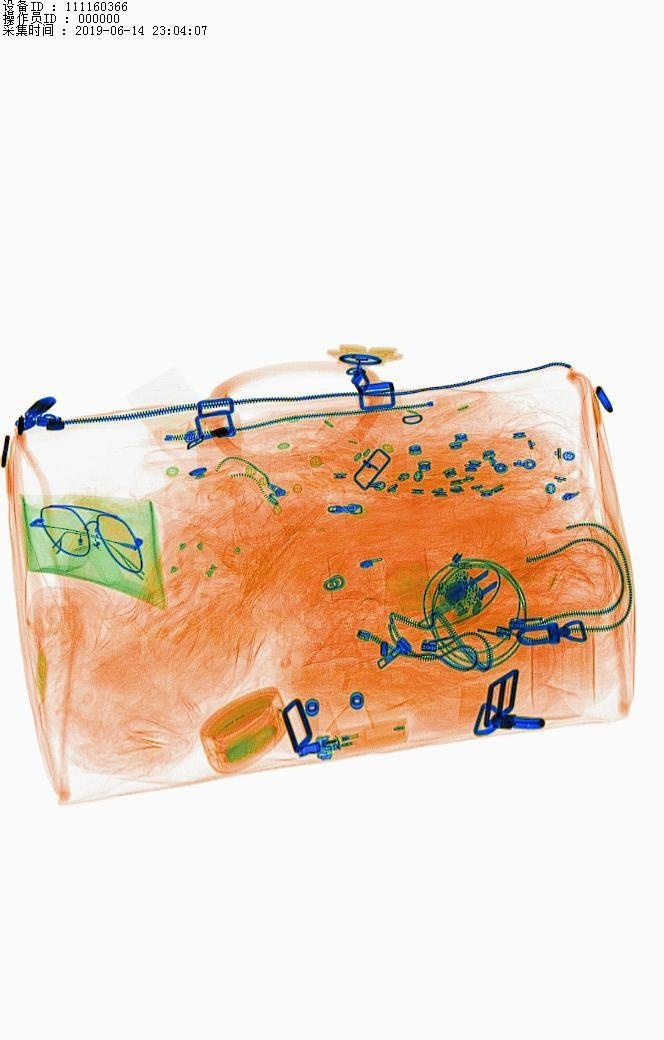NonmetallicFire: (315, 718, 421, 757)
